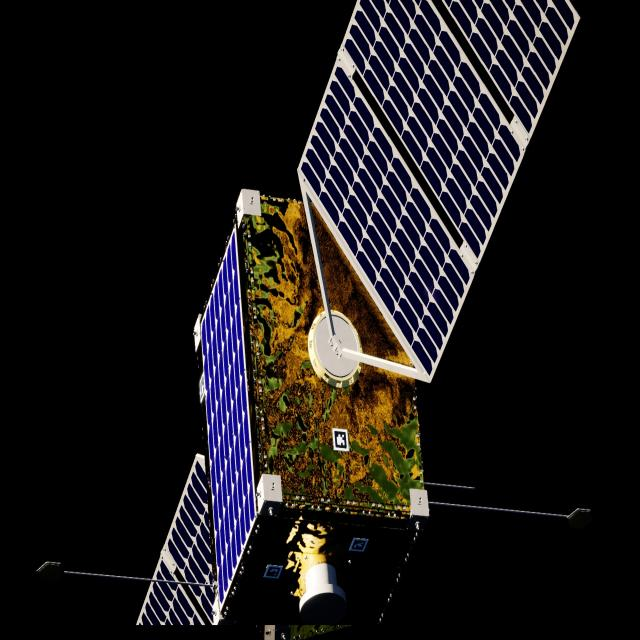medium_debris: (138, 0, 581, 629)
